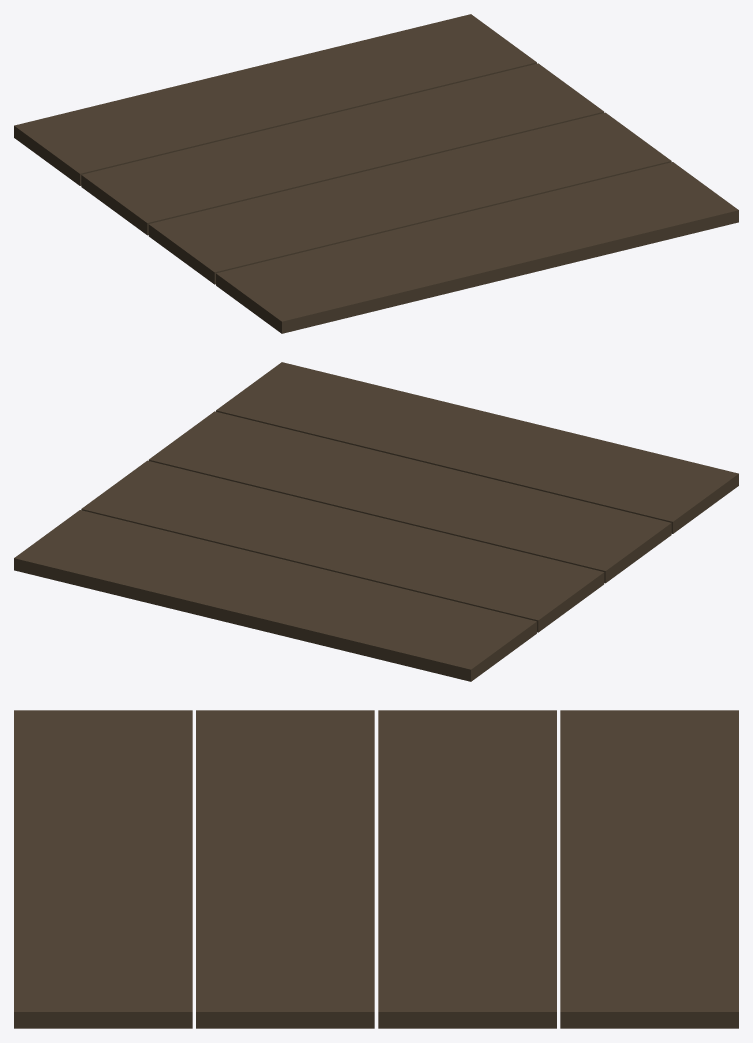
Rendered from raum_fliese_weg.glb.
3 renders of one model, top to bottom at view 1: azimuth 30°, elevation 25°; view 2: azimuth 150°, elevation 25°; view 3: azimuth 270°, elevation 25°, orthographic. The views are drawn at different scales.
Visible parts, largest first — view 1: boden; view 2: boden; view 3: boden.
Part boxes in pixels (x1,y1,x2,y2): boden: (14,14,738,333); boden: (14,362,738,681); boden: (14,710,738,1028).
Size of the model in its own units: 0.98 by 0.025 by 0.995.
